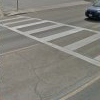crosswalk: (0, 15, 100, 66)
